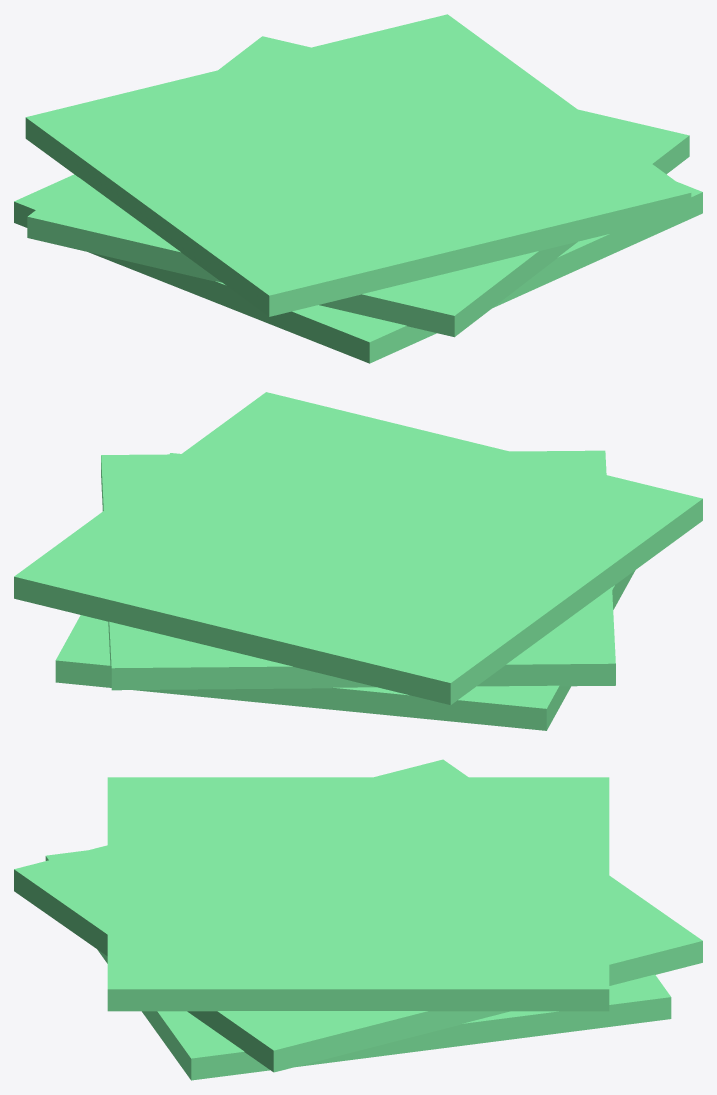
The model's file is flat_material.glb.
The picture shows the model from 3 angles, top to bottom: view 1: azimuth 30°, elevation 25°; view 2: azimuth 150°, elevation 25°; view 3: azimuth 270°, elevation 25°; orthographic projection. The views are drawn at different scales.
Parts seen in each view (by area): view 1: Plane; view 2: Plane; view 3: Plane.
Part boxes in pixels (box(x1,y1,x2,y2)): Plane: box(14, 14, 702, 363); Plane: box(14, 392, 702, 730); Plane: box(14, 759, 702, 1080).
Bounding box in the file's own units: 4.09 × 0.4252 × 4.09.
